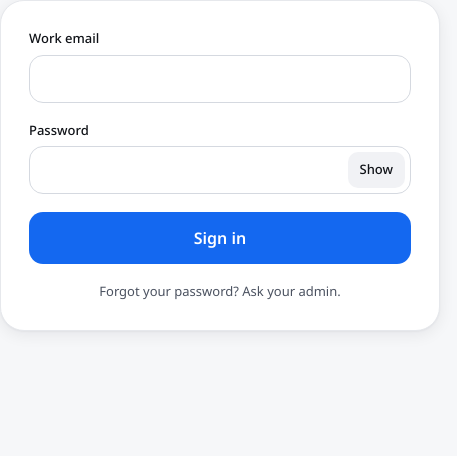
Test: SignInForm › shows the catalog sentence, never the server's raw text, and keeps the email
The image size is (457, 456).
Type "a@example.com" into the field labelled "Work email".
click(220, 78); type("a@example.com")  # box [29,54,411,102]
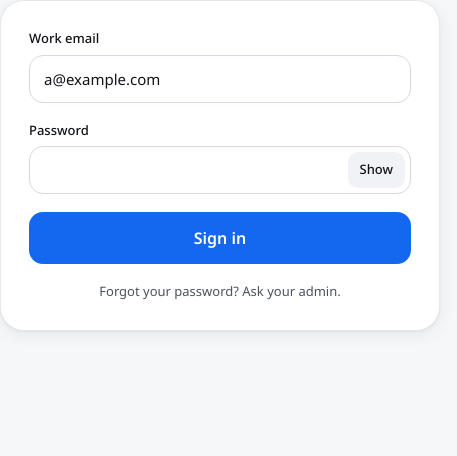
Type "secret" into the password field labelled "Password".
click(220, 170); type("secret")  # box [29,146,411,194]
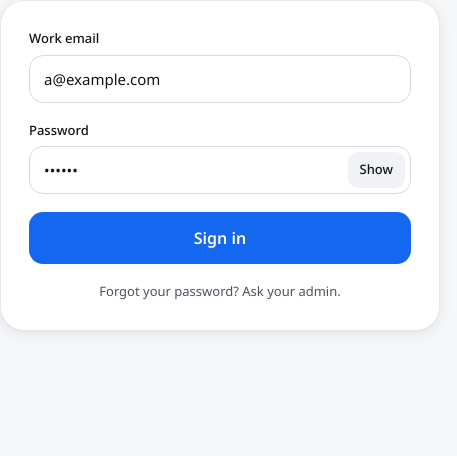
Click the button "Sign in".
click(220, 238)  # box [29,212,411,264]
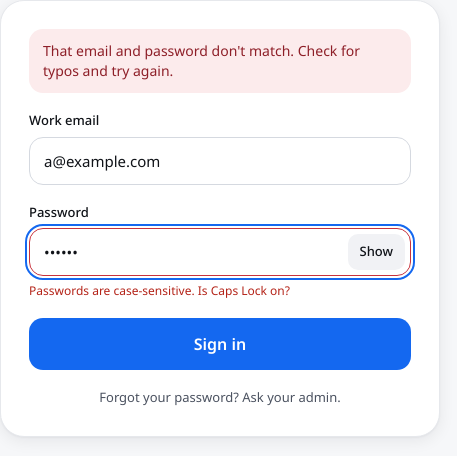
Check: the message shows "That email and password don't match.", box [43,41,360,80]
Check: the text "Passwords are case-sensitive. Is Caps Lock on?" is shown, box [29,282,290,299]
